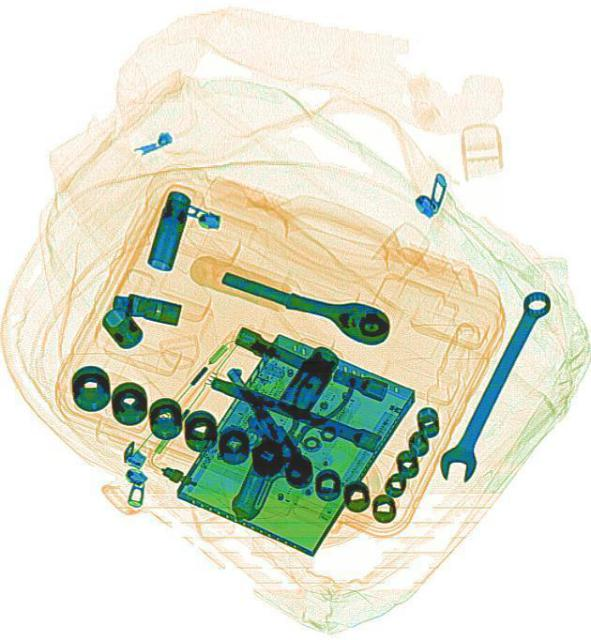Gun: (167, 361, 312, 524)
Pliers: (255, 354, 358, 474)
Wrench: (431, 284, 560, 488)
